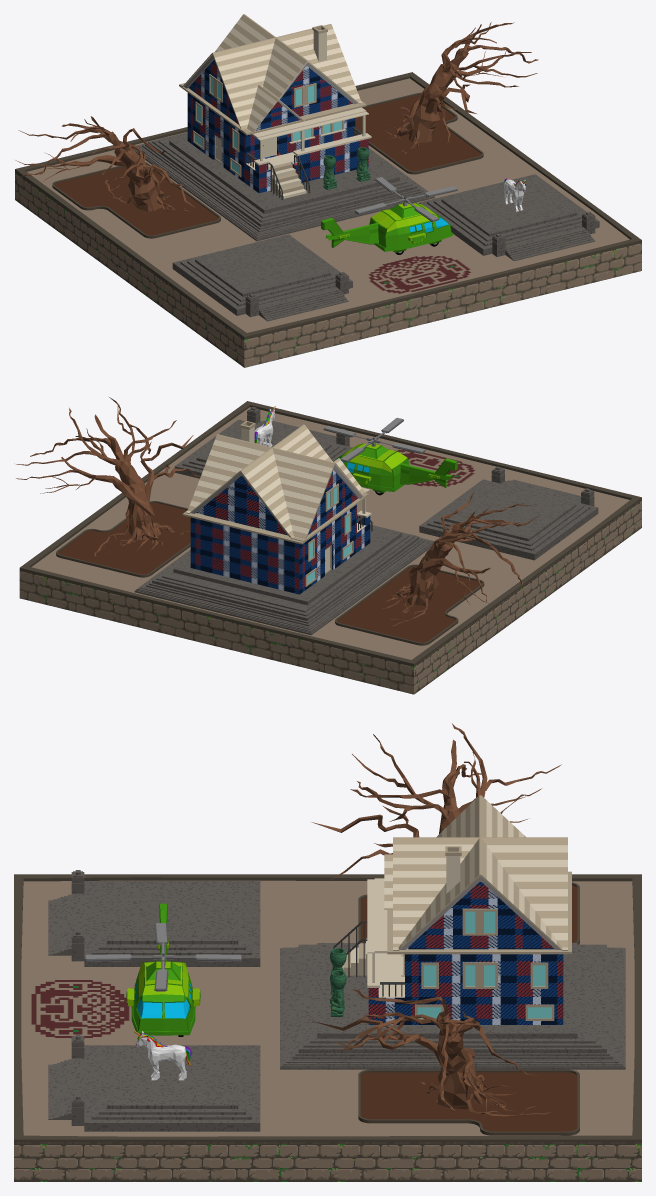
The picture shows the model from 3 angles, top to bottom: view 1: azimuth 30°, elevation 25°; view 2: azimuth 150°, elevation 25°; view 3: azimuth 270°, elevation 25°; orthographic projection. The views are drawn at different scales.
Visible parts, largest first — view 1: Cube.011, Cube.171, VEHICLES_HELICOPTER, ANIMAL_UNICORNIO; view 2: Cube.011, Cube.171, VEHICLES_HELICOPTER, ANIMAL_UNICORNIO; view 3: Cube.011, Cube.171, VEHICLES_HELICOPTER, ANIMAL_UNICORNIO.
Part boxes in pixels (box(x1,y1,x2,y2)): Cube.011: box(15, 22, 641, 367); Cube.171: box(179, 14, 371, 199); VEHICLES_HELICOPTER: box(321, 177, 457, 254); ANIMAL_UNICORNIO: box(503, 178, 526, 211); Cube.011: box(14, 397, 641, 694); Cube.171: box(182, 421, 372, 594); VEHICLES_HELICOPTER: box(323, 417, 457, 495); ANIMAL_UNICORNIO: box(254, 406, 275, 446); Cube.011: box(14, 723, 641, 1181); Cube.171: box(333, 795, 571, 1024); VEHICLES_HELICOPTER: box(85, 903, 241, 1036); ANIMAL_UNICORNIO: box(134, 1030, 191, 1080).
Bounding box in the file's own units: 5099 × 1683 × 4000.
Materials: 36 (7 with a texture image).
